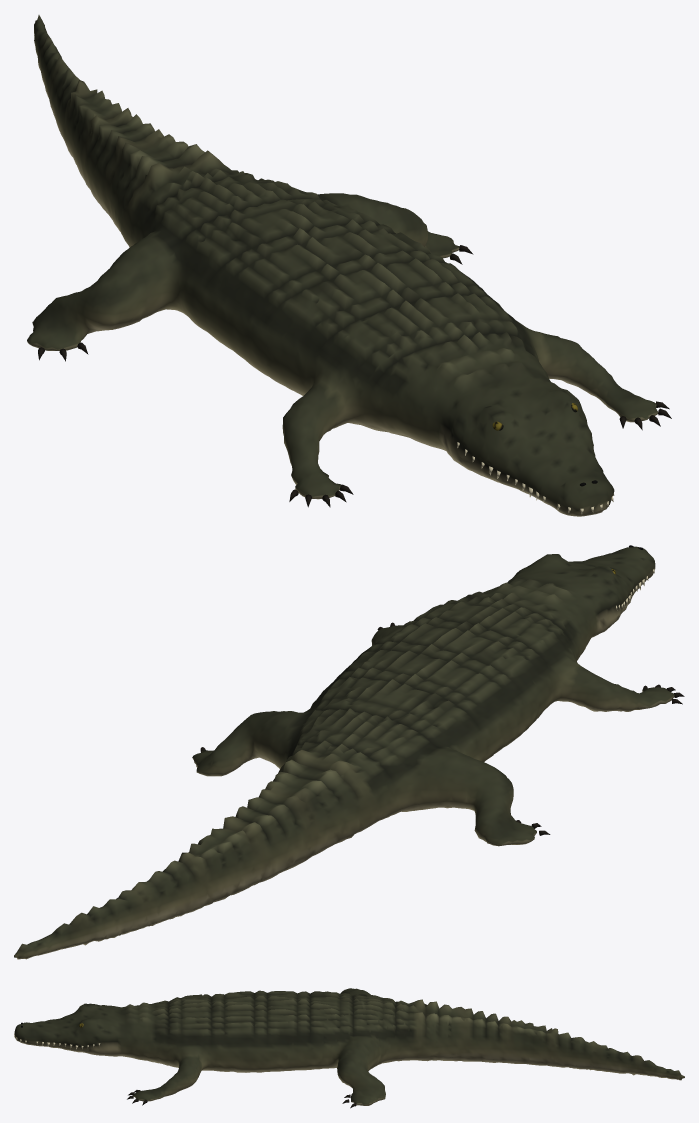
File: AmericanAlligator.fbx
3 renders of one model, top to bottom at view 1: azimuth 30°, elevation 25°; view 2: azimuth 150°, elevation 25°; view 3: azimuth 270°, elevation 25°, orthographic. The views are drawn at different scales.
Parts seen in each view (by area): view 1: AmericanAlligator; view 2: AmericanAlligator; view 3: AmericanAlligator.
Part boxes in pixels (x1,y1,x2,y2): AmericanAlligator: [27, 15, 671, 516]; AmericanAlligator: [14, 545, 684, 959]; AmericanAlligator: [14, 988, 684, 1108].
Bounding box in the file's own units: 1.2 × 0.3172 × 3.21.
